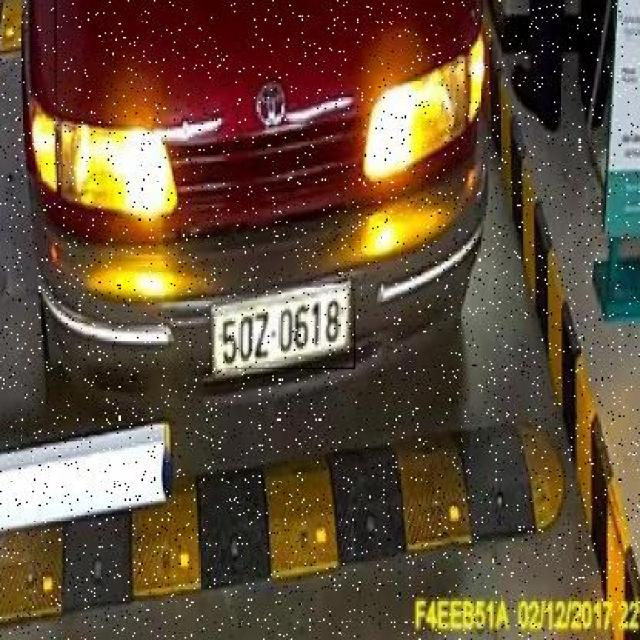number_plate: (212, 288, 356, 369)
